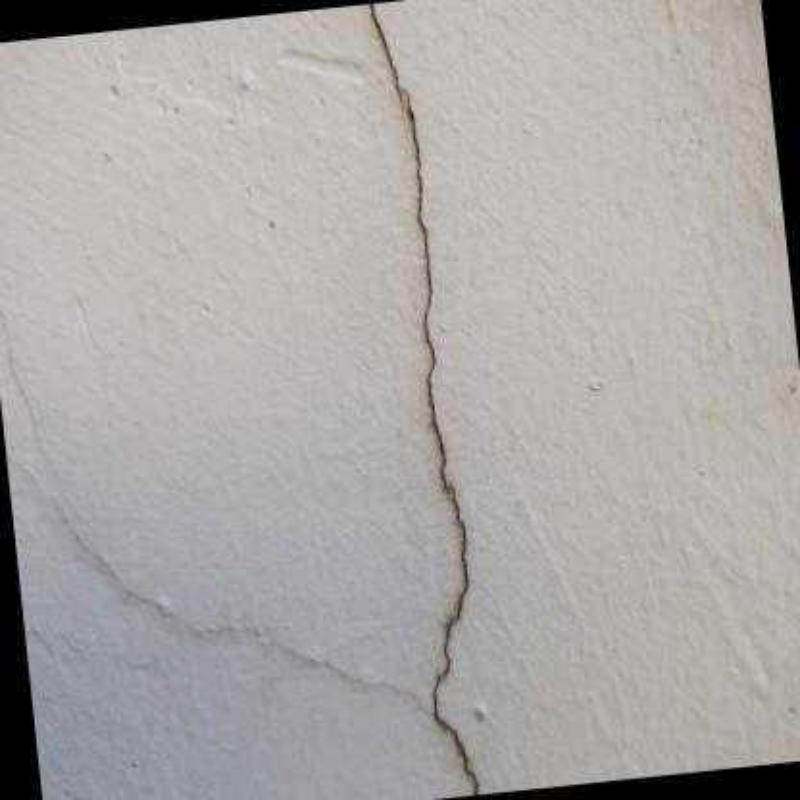pothole: (367, 0, 478, 794), (46, 496, 431, 719)
